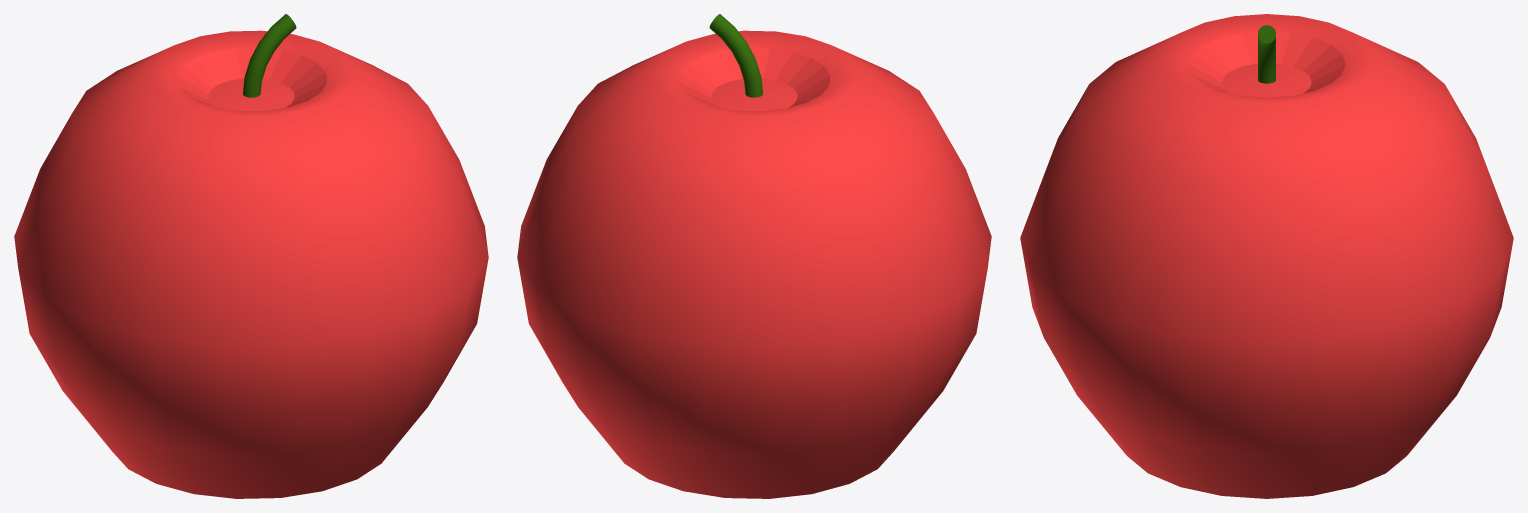
Rendered from Appel (textured).FBX.
3 renders of one model, left to right at view 1: azimuth 30°, elevation 25°; view 2: azimuth 150°, elevation 25°; view 3: azimuth 270°, elevation 25°, orthographic. The views are drawn at different scales.
Visible parts, largest first — view 1: Sphere001, Cylinder001; view 2: Sphere001, Cylinder001; view 3: Sphere001, Cylinder001.
Boxes of the visible parts, bbox=[...] form: Sphere001: bbox=[14, 30, 488, 498]; Cylinder001: bbox=[243, 14, 296, 97]; Sphere001: bbox=[517, 30, 991, 498]; Cylinder001: bbox=[709, 14, 762, 97]; Sphere001: bbox=[1020, 14, 1513, 498]; Cylinder001: bbox=[1258, 25, 1275, 83].
Bounding box in the file's own units: 8 × 8.1 × 8.
